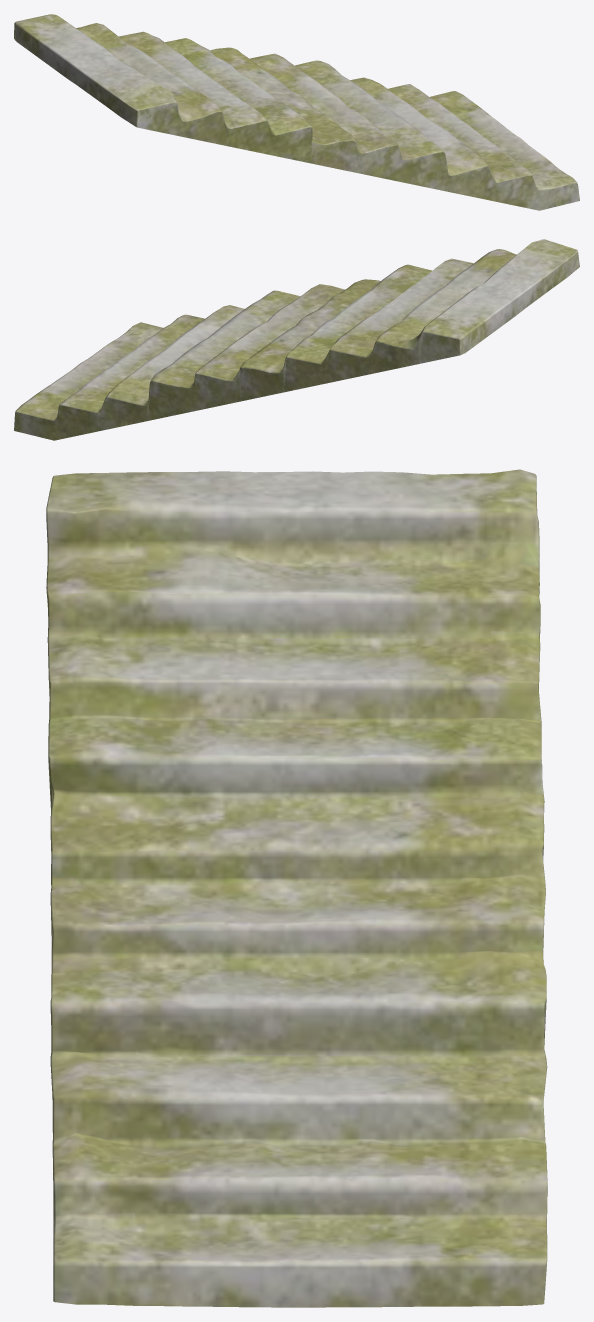
File: steps-mossy.glb
The picture shows the model from 3 angles, top to bottom: view 1: azimuth 30°, elevation 25°; view 2: azimuth 150°, elevation 25°; view 3: azimuth 270°, elevation 25°; orthographic projection. The views are drawn at different scales.
Parts seen in each view (by area): view 1: low; view 2: low; view 3: low.
Part boxes in pixels (x1,y1,x2,y2): low: (14,14,579,210); low: (14,239,579,440); low: (46,469,547,1307).
Size of the model in its own units: 3.44 by 1.5 by 1.67.
Materials: 1 (1 with a texture image).
